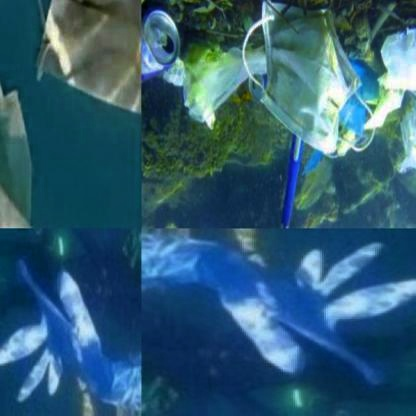Mask: (0, 28, 141, 228), (242, 0, 376, 158), (32, 0, 140, 124)
glove: (143, 232, 414, 387), (1, 258, 140, 415)
